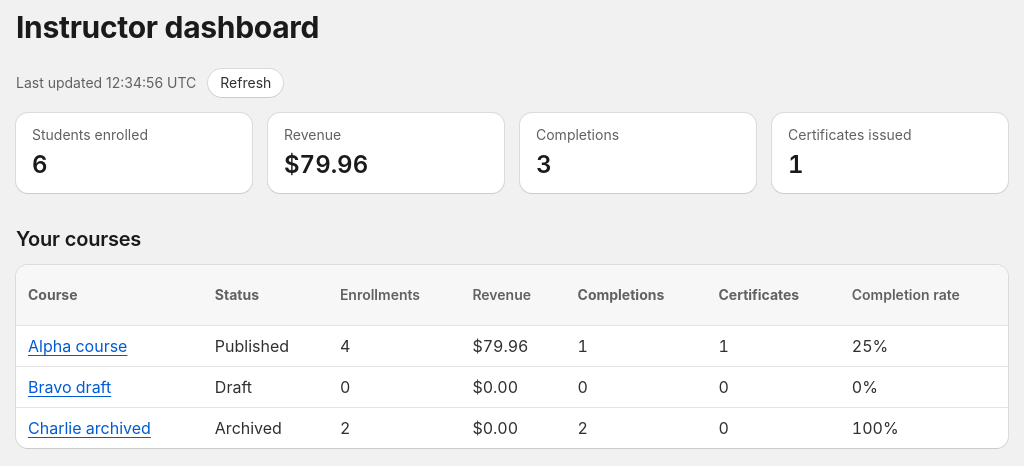
it: InstructorOverviewPage freshness › refetches when Refresh is pressed and shows the new figures and time
The width and height of the screenshot is (1024, 466).
What coordinates should you click on to do the following:
click the button "Refresh"
I would click on:
 (246, 83)
Its box is [208,69,283,97].
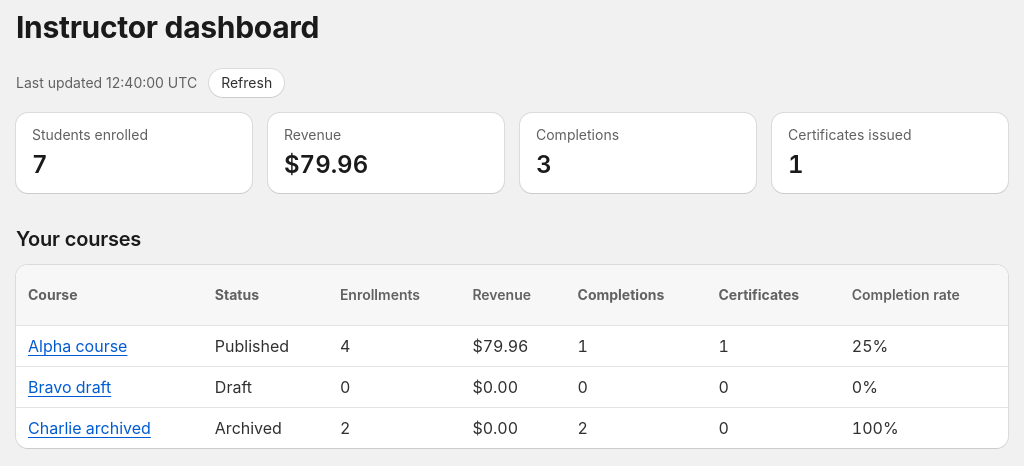
Check: the text "Last updated 12:40:00 UTC" is shown, box [16,73,197,93]
